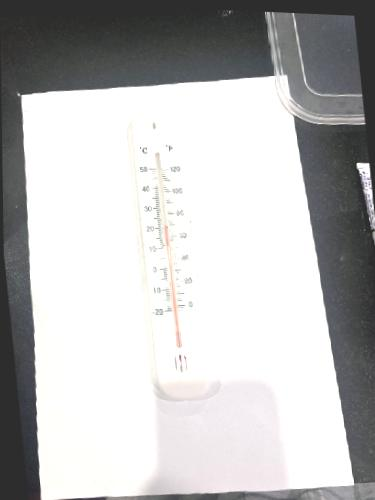thermo: (128, 110, 214, 393)
